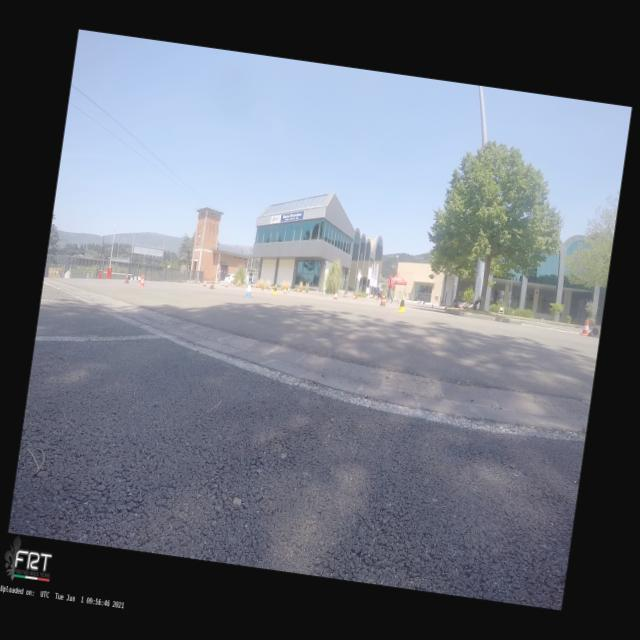blue_cone: (243, 280, 255, 298), (322, 291, 326, 297), (288, 288, 290, 294)
large_orange_cone: (379, 292, 388, 306), (209, 278, 216, 290), (267, 283, 270, 290)
orange_cone: (580, 320, 590, 336), (138, 274, 148, 288), (282, 286, 288, 296), (333, 290, 339, 300), (202, 278, 208, 287), (224, 280, 229, 288), (384, 296, 388, 306), (138, 275, 142, 283), (353, 295, 358, 300), (242, 282, 246, 288), (343, 294, 348, 298), (319, 290, 322, 296), (410, 300, 413, 306), (198, 279, 200, 285), (318, 290, 320, 295)
unknown_cone: (588, 325, 600, 338), (124, 273, 130, 284), (296, 288, 300, 294), (261, 284, 264, 290), (431, 304, 434, 308), (376, 296, 378, 300)
yellow_cone: (396, 294, 408, 314), (272, 284, 280, 296)
